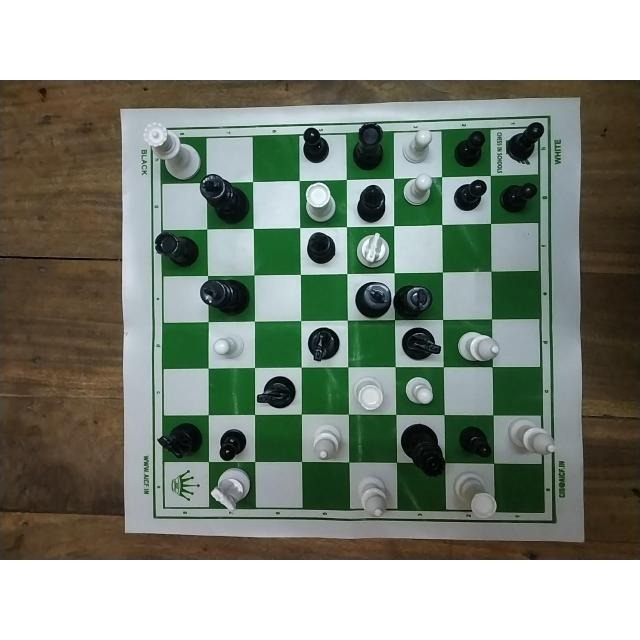black-bishop: (356, 184, 386, 220), (304, 236, 340, 264)
black-king: (201, 176, 251, 226), (194, 277, 250, 316), (394, 281, 436, 319), (352, 282, 394, 320)
black-knight: (157, 420, 205, 459), (399, 325, 442, 364), (254, 375, 295, 414), (308, 326, 344, 366)
black-pawn: (504, 122, 547, 164), (456, 422, 492, 466), (500, 178, 538, 214), (298, 126, 333, 165), (452, 180, 488, 216), (452, 132, 488, 166), (216, 426, 247, 461)
black-queen: (401, 421, 445, 478)
black-rook: (153, 230, 203, 273), (350, 122, 388, 174)
white-bishop: (507, 420, 559, 458), (454, 326, 502, 366), (355, 472, 394, 517), (308, 421, 343, 461)
white-knight: (206, 467, 252, 516), (352, 232, 392, 271)
white-pawn: (402, 374, 438, 410), (403, 172, 436, 211), (402, 129, 437, 165), (212, 333, 248, 361)
white-queen: (140, 122, 203, 180)
white-rook: (452, 471, 500, 523), (352, 372, 388, 412), (303, 185, 339, 221)
